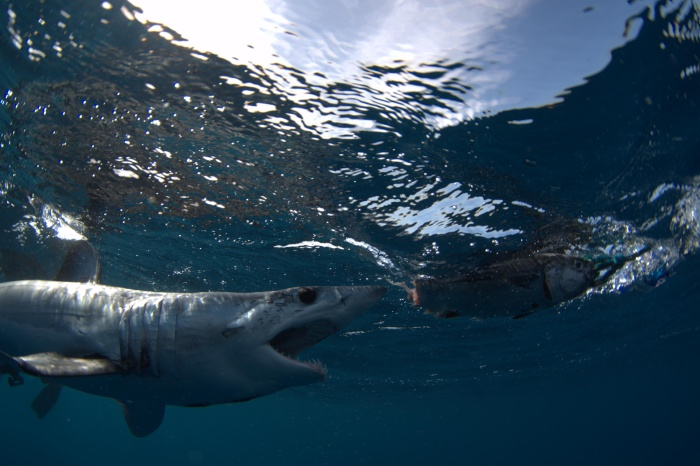Mako: (1, 229, 419, 444)
